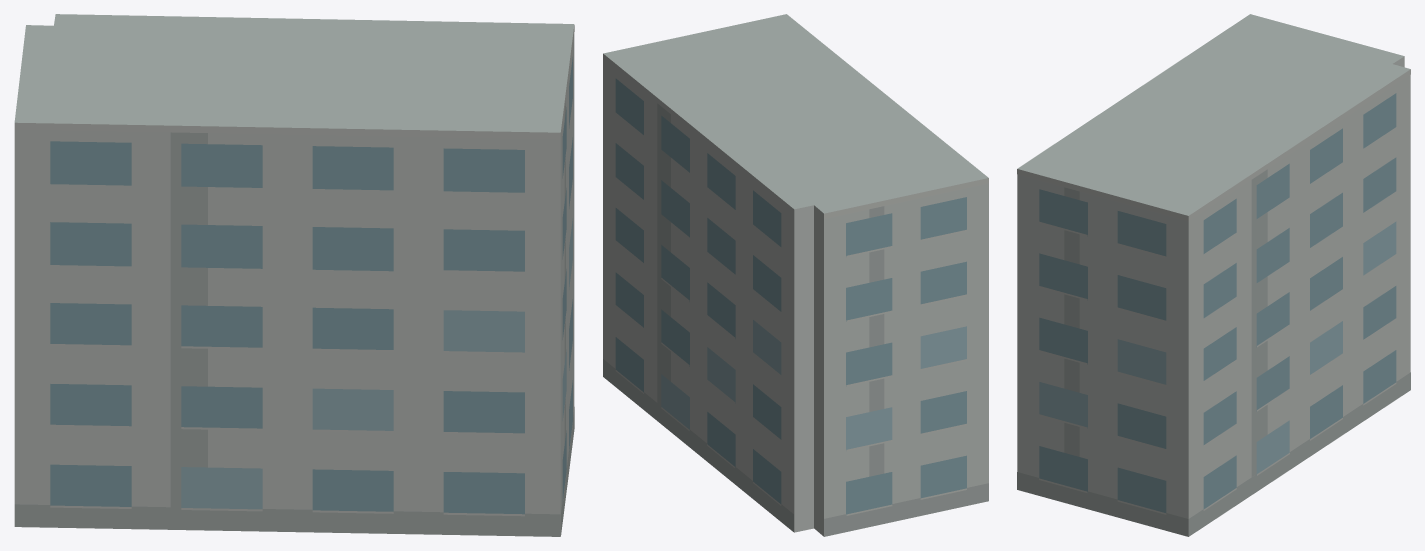
The model's file is survey-upis-32991983.glb.
3 renders of one model, left to right at view 1: azimuth 30°, elevation 25°; view 2: azimuth 150°, elevation 25°; view 3: azimuth 270°, elevation 25°, orthographic. The views are drawn at different scales.
Visible parts, largest first — view 1: survey-upis-32991983.tmp; view 2: survey-upis-32991983.tmp; view 3: survey-upis-32991983.tmp.
Part boxes in pixels (x1,y1,x2,y2): survey-upis-32991983.tmp: (14,14,574,536); survey-upis-32991983.tmp: (603,14,988,536); survey-upis-32991983.tmp: (1017,14,1410,536).
Size of the model in its own units: 19.3 by 14.3 by 15.91.
